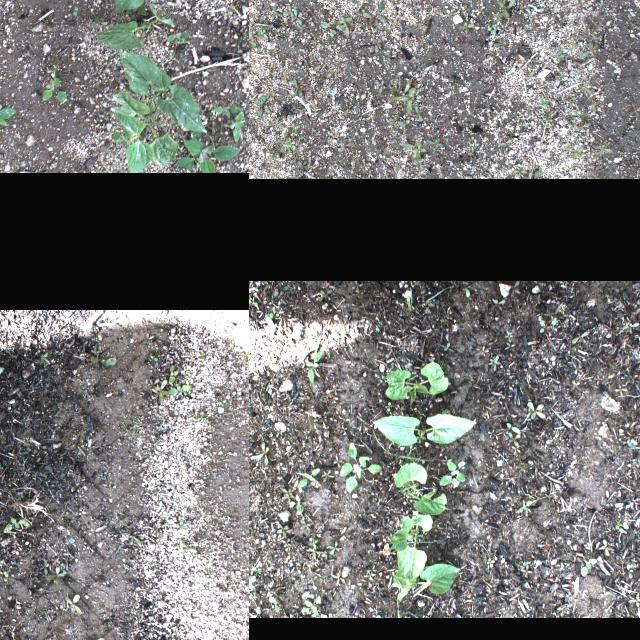crop: (118, 48, 205, 132), (110, 91, 178, 172), (93, 1, 173, 51), (371, 414, 475, 446), (388, 511, 432, 579), (394, 462, 446, 516), (386, 363, 448, 405), (392, 564, 458, 602)
weed: (176, 127, 238, 173), (372, 429, 436, 461), (340, 443, 380, 493), (438, 460, 466, 486), (42, 75, 66, 103), (212, 98, 242, 119), (274, 133, 300, 157), (305, 351, 323, 383), (362, 2, 384, 28), (90, 345, 116, 367), (115, 416, 143, 436), (425, 286, 457, 302), (1, 516, 29, 534), (252, 95, 274, 117), (402, 141, 426, 161), (387, 81, 411, 101), (296, 468, 320, 488), (249, 441, 268, 466), (288, 494, 310, 514), (300, 594, 320, 616), (249, 28, 268, 51), (230, 111, 244, 142), (332, 16, 353, 36), (89, 9, 109, 29), (495, 0, 515, 20), (150, 379, 168, 401), (45, 566, 65, 584), (0, 108, 15, 130), (194, 408, 212, 426), (579, 42, 599, 58), (64, 594, 80, 614), (403, 88, 415, 114), (280, 4, 298, 20), (526, 402, 544, 418), (564, 146, 584, 160), (319, 19, 335, 36), (128, 1, 146, 15), (577, 80, 595, 94), (514, 499, 532, 513), (582, 558, 596, 576), (166, 384, 190, 394), (571, 331, 589, 344), (337, 138, 353, 152), (598, 540, 612, 556), (166, 32, 188, 42), (290, 8, 302, 26), (592, 144, 612, 154), (294, 78, 304, 98), (168, 364, 178, 384), (146, 377, 160, 391), (614, 520, 628, 534), (325, 541, 339, 555), (626, 593, 640, 607), (388, 116, 404, 128), (268, 118, 284, 130), (406, 287, 414, 311), (308, 544, 320, 560), (458, 22, 476, 32), (180, 543, 198, 553), (488, 354, 499, 370), (397, 610, 419, 618), (268, 146, 280, 160), (174, 521, 186, 535), (128, 532, 140, 546), (318, 289, 332, 301), (490, 298, 504, 310), (507, 432, 519, 446), (276, 523, 288, 537), (629, 101, 640, 116), (426, 139, 442, 149), (297, 160, 307, 176), (370, 38, 380, 54), (241, 344, 249, 364), (38, 559, 48, 575), (510, 280, 520, 296), (268, 597, 278, 613), (321, 470, 334, 482), (39, 351, 50, 365), (624, 322, 638, 333), (506, 422, 520, 433), (492, 40, 508, 49), (413, 106, 422, 122), (268, 306, 280, 318), (300, 520, 312, 532), (440, 455, 452, 467), (412, 158, 422, 172), (325, 68, 339, 78), (280, 70, 290, 84), (268, 6, 278, 20), (440, 342, 454, 352), (280, 492, 294, 502), (330, 573, 344, 583), (362, 570, 376, 580), (147, 108, 159, 119), (627, 20, 640, 30), (532, 171, 548, 179), (512, 170, 528, 178), (249, 118, 257, 134), (537, 316, 545, 332), (249, 606, 260, 617), (553, 51, 565, 61), (592, 20, 602, 32), (373, 135, 385, 145), (404, 0, 416, 10), (354, 2, 366, 12), (199, 350, 211, 360), (570, 380, 582, 390), (415, 530, 427, 540), (332, 455, 342, 467), (364, 565, 376, 575), (576, 122, 590, 130), (488, 24, 498, 34), (599, 587, 609, 597), (268, 378, 278, 388), (281, 538, 291, 548), (528, 59, 540, 67), (377, 80, 385, 92), (416, 20, 428, 28), (296, 24, 308, 32), (461, 285, 469, 297), (486, 556, 494, 568), (250, 564, 262, 572), (413, 436, 425, 444), (308, 537, 316, 549), (627, 439, 637, 448), (488, 429, 497, 439), (210, 122, 217, 134), (590, 100, 596, 114), (497, 140, 511, 146), (344, 104, 351, 116), (626, 565, 632, 579), (588, 164, 598, 172), (540, 98, 548, 108), (601, 48, 611, 56), (570, 38, 578, 48), (291, 106, 301, 114), (550, 315, 558, 325), (275, 429, 285, 437), (511, 444, 519, 454), (504, 342, 514, 350), (384, 402, 392, 412), (307, 576, 317, 584), (308, 416, 314, 429), (570, 110, 582, 116), (563, 96, 575, 102), (414, 172, 424, 179), (339, 424, 346, 434), (81, 637, 104, 640), (326, 135, 334, 143), (300, 96, 308, 104), (266, 91, 274, 99), (553, 73, 561, 81), (249, 298, 257, 306), (384, 322, 392, 330), (327, 489, 335, 497), (416, 0, 423, 9), (133, 36, 143, 42), (72, 6, 78, 16), (281, 488, 291, 494), (612, 326, 622, 332), (321, 550, 327, 560), (118, 168, 132, 172), (469, 146, 476, 154), (380, 173, 389, 179), (228, 6, 234, 14), (526, 70, 534, 76), (590, 32, 596, 40), (390, 106, 402, 110), (310, 92, 318, 98), (303, 7, 309, 15), (310, 37, 316, 44), (592, 174, 600, 179), (148, 356, 158, 360), (9, 16, 15, 22), (300, 56, 306, 62), (322, 177, 339, 179), (420, 95, 424, 103), (218, 400, 226, 404), (508, 330, 512, 338), (168, 53, 172, 59), (594, 152, 598, 158), (625, 299, 629, 305), (33, 169, 37, 173), (382, 375, 386, 379), (96, 171, 102, 173), (300, 49, 304, 51)
